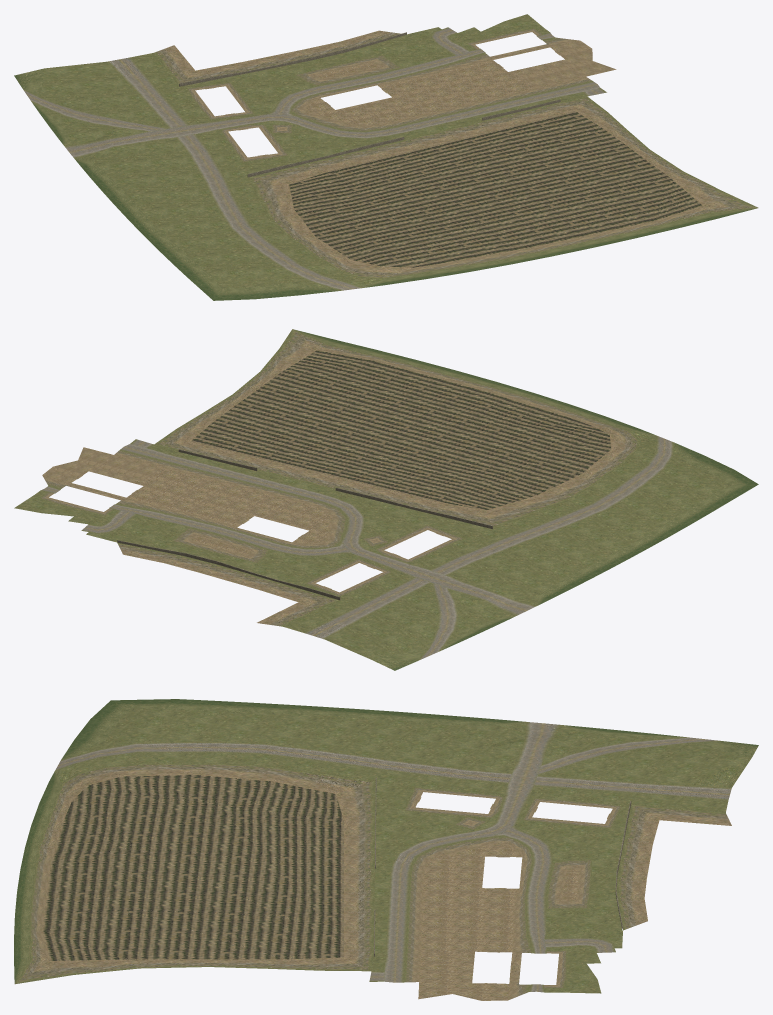
File: ce_farmland01.obj
3 views of the same model, one above another, from view 1: azimuth 30°, elevation 25°; view 2: azimuth 150°, elevation 25°; view 3: azimuth 270°, elevation 25° (orthographic). The views are drawn at different scales.
Parts seen in each view (by area): view 1: CE_farmland01; view 2: CE_farmland01; view 3: CE_farmland01.
Part boxes in pixels (x1,y1,x2,y2): CE_farmland01: [14, 14, 758, 300]; CE_farmland01: [14, 329, 758, 670]; CE_farmland01: [14, 699, 758, 1000].
Bounding box in the file's own units: 290 × 3.19 × 300.
7 materials, 7 textured.
